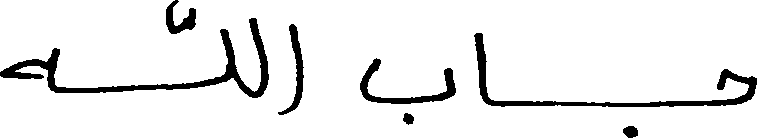ا: (288, 22, 306, 114), (473, 30, 490, 106)
ب: (358, 55, 455, 124), (608, 100, 665, 137)
ح: (714, 67, 754, 106)
ل: (248, 16, 269, 98), (217, 26, 234, 84)
ه: (0, 45, 58, 92)
